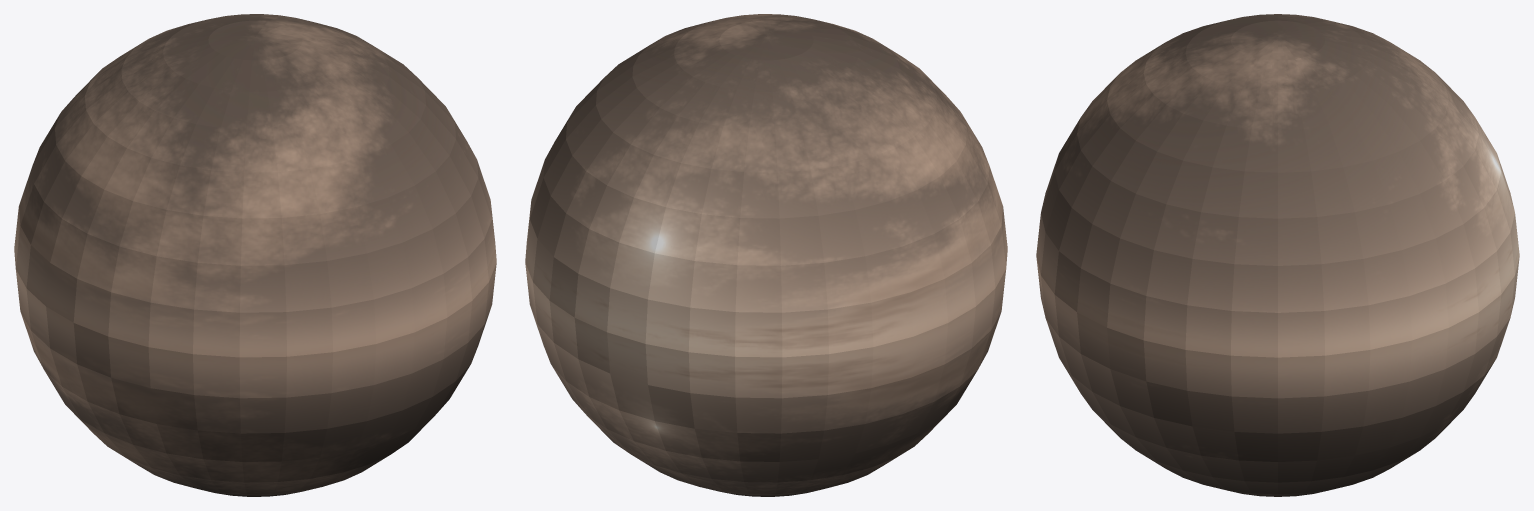
The model's file is stage05.glb.
The picture shows the model from 3 angles, left to right: view 1: azimuth 30°, elevation 25°; view 2: azimuth 150°, elevation 25°; view 3: azimuth 270°, elevation 25°; orthographic projection.
Visible parts, largest first — view 1: Sphere; view 2: Sphere; view 3: Sphere.
Part boxes in pixels (x1=…): Sphere: x1=14, y1=14, x2=496, y2=496; Sphere: x1=525, y1=14, x2=1007, y2=496; Sphere: x1=1036, y1=14, x2=1519, y2=496.
Size of the model in its own units: 500 by 500 by 500.
15 materials, 5 textured.
